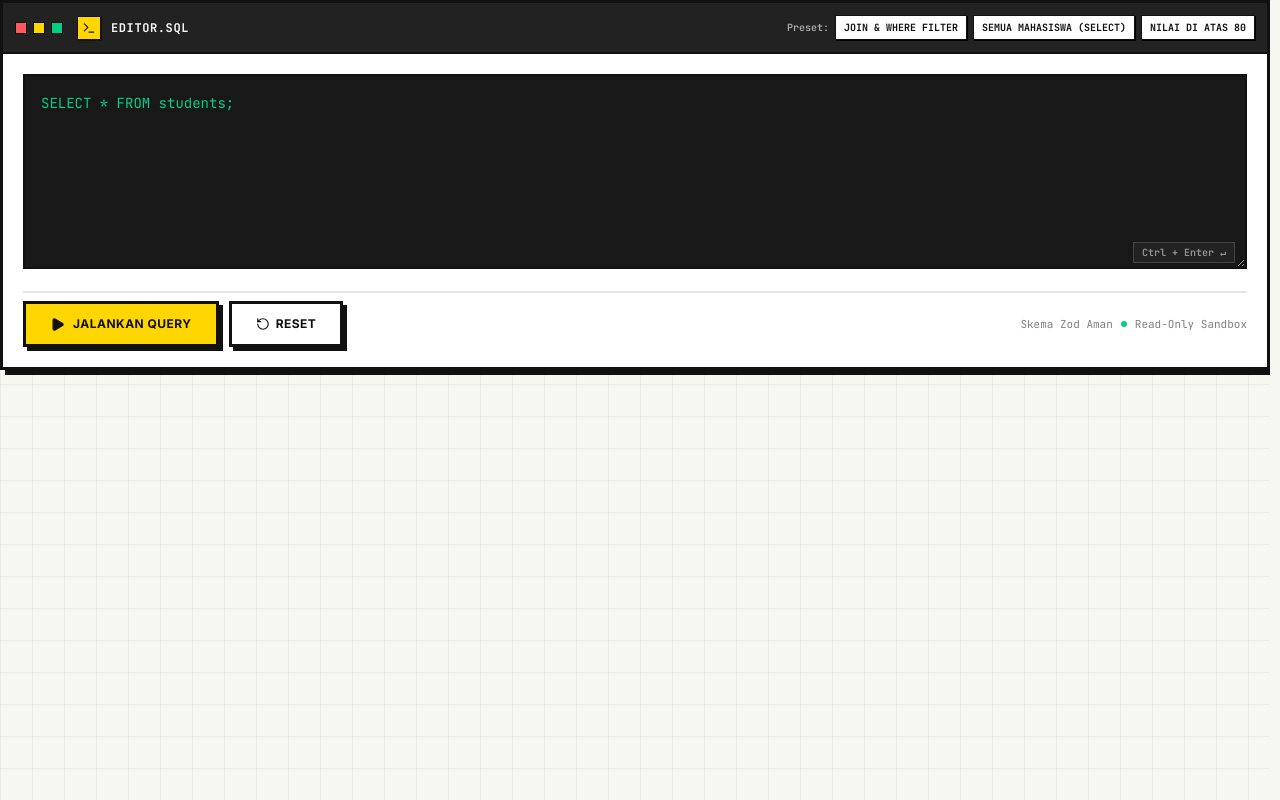
SqlEditor › announces validation errors and associates them with the editor
Clear the text box named "Editor Kode SQL" at coordinates (635, 172), box [23, 74, 1247, 269]
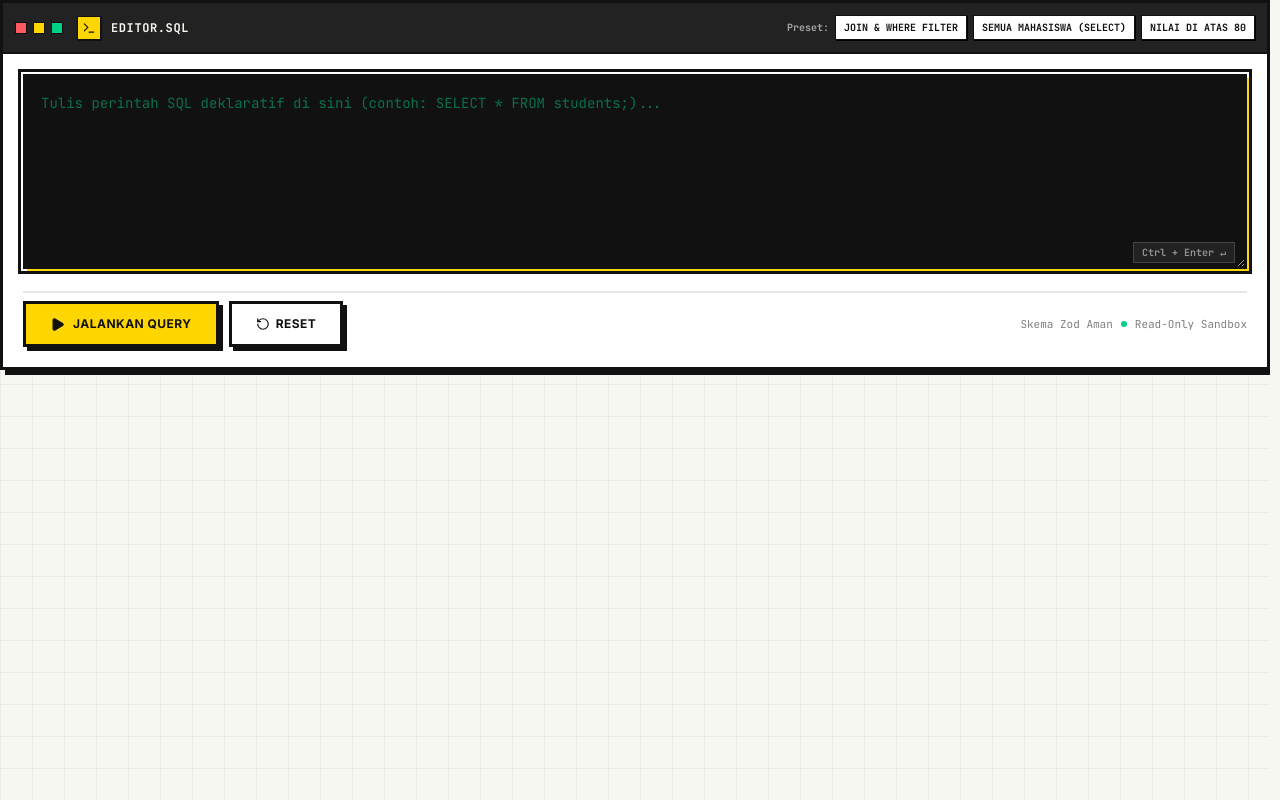
Click the button "Jalankan Query" at coordinates (121, 324), box [23, 301, 219, 347]
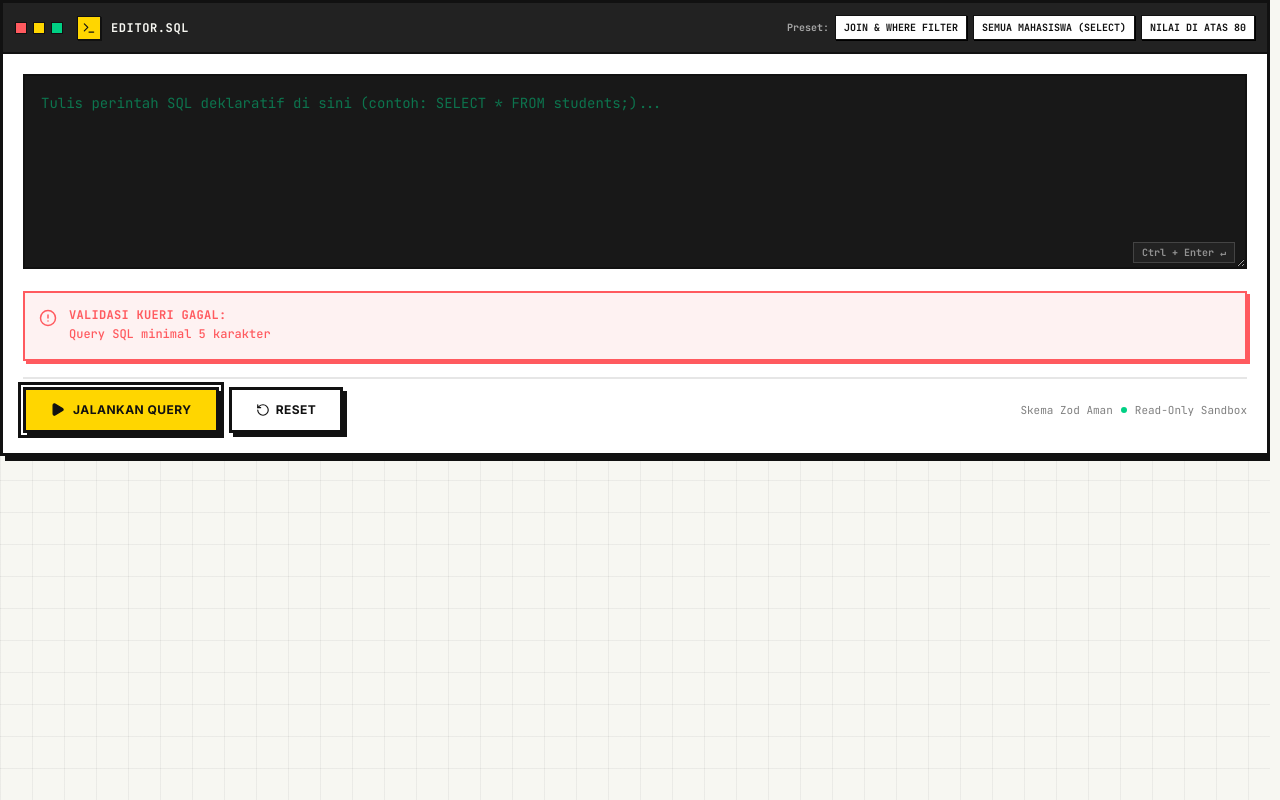
Expected: the message "Validasi Kueri Gagal: Query SQL minimal 5 karakter" is shown, [23, 291, 1247, 361]
